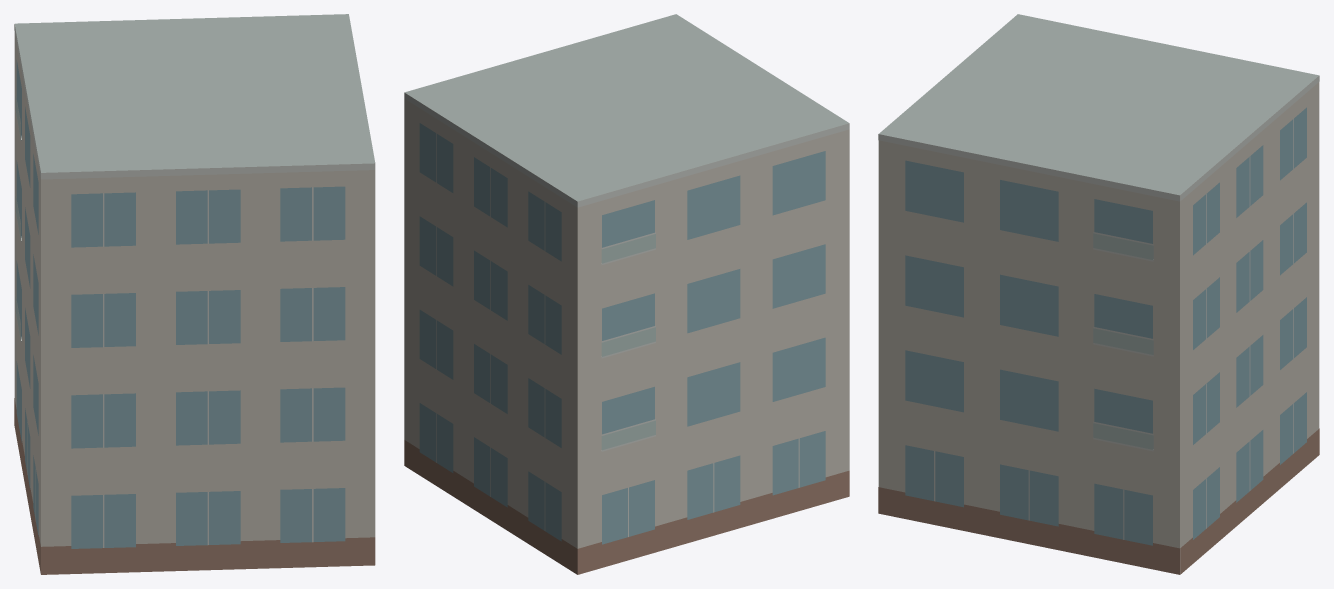
File: survey-upis-32774053.glb
3 renders of one model, left to right at view 1: azimuth 30°, elevation 25°; view 2: azimuth 150°, elevation 25°; view 3: azimuth 270°, elevation 25°, orthographic. The views are drawn at different scales.
Parts seen in each view (by area): view 1: survey-upis-32774053.tmp; view 2: survey-upis-32774053.tmp; view 3: survey-upis-32774053.tmp.
Part boxes in pixels (<box>): survey-upis-32774053.tmp: <box>14,14,375,574</box>; survey-upis-32774053.tmp: <box>404,14,849,574</box>; survey-upis-32774053.tmp: <box>878,14,1319,574</box>.
Size of the model in its own units: 15.34 by 14.96 by 15.76.
